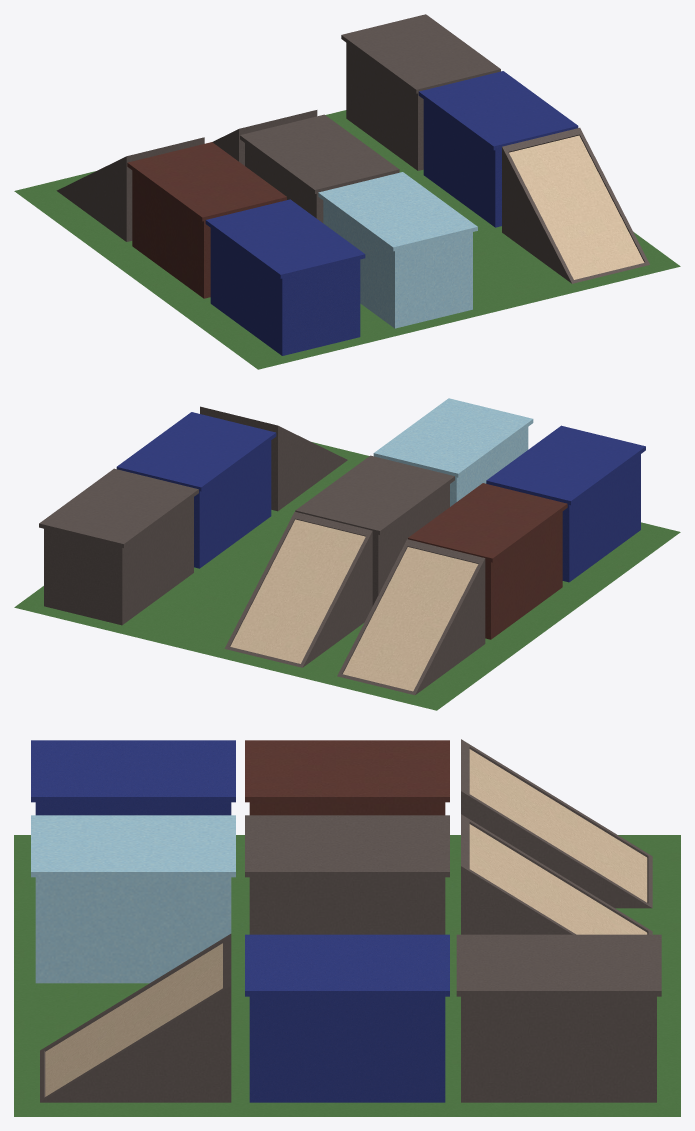
File: house8.obj
The picture shows the model from 3 angles, top to bottom: view 1: azimuth 30°, elevation 25°; view 2: azimuth 150°, elevation 25°; view 3: azimuth 270°, elevation 25°; orthographic projection. The views are drawn at different scales.
Visible parts, largest first — view 1: Cube.004_Cube.078, Plane.009_Plane.005, Plane.008_Plane.005, Plane.002_Plane.013, Plane.007_Plane.006; view 2: Cube.004_Cube.078, Plane.007_Plane.006, Plane.002_Plane.013, Plane.008_Plane.005, Plane.009_Plane.005; view 3: Cube.004_Cube.078, Plane.009_Plane.005, Plane.007_Plane.006, Plane.002_Plane.013, Plane.008_Plane.005.
Part boxes in pixels (bbox=[...]): Cube.004_Cube.078: bbox=[56, 14, 649, 355]; Plane.009_Plane.005: bbox=[447, 201, 680, 317]; Plane.008_Plane.005: bbox=[136, 272, 469, 369]; Plane.002_Plane.013: bbox=[14, 171, 167, 280]; Plane.007_Plane.006: bbox=[325, 110, 459, 204]; Cube.004_Cube.078: bbox=[39, 398, 645, 695]; Plane.007_Plane.006: bbox=[14, 542, 273, 658]; Plane.002_Plane.013: bbox=[225, 613, 558, 710]; Plane.008_Plane.005: bbox=[527, 522, 680, 621]; Plane.009_Plane.005: bbox=[235, 442, 369, 551]; Cube.004_Cube.078: bbox=[31, 739, 661, 1102]; Plane.009_Plane.005: bbox=[14, 976, 347, 1116]; Plane.007_Plane.006: bbox=[347, 976, 680, 1116]; Plane.002_Plane.013: bbox=[445, 835, 680, 975]; Plane.008_Plane.005: bbox=[14, 835, 249, 975].
Bounding box in the file's own units: 40 × 8.09 × 40.
